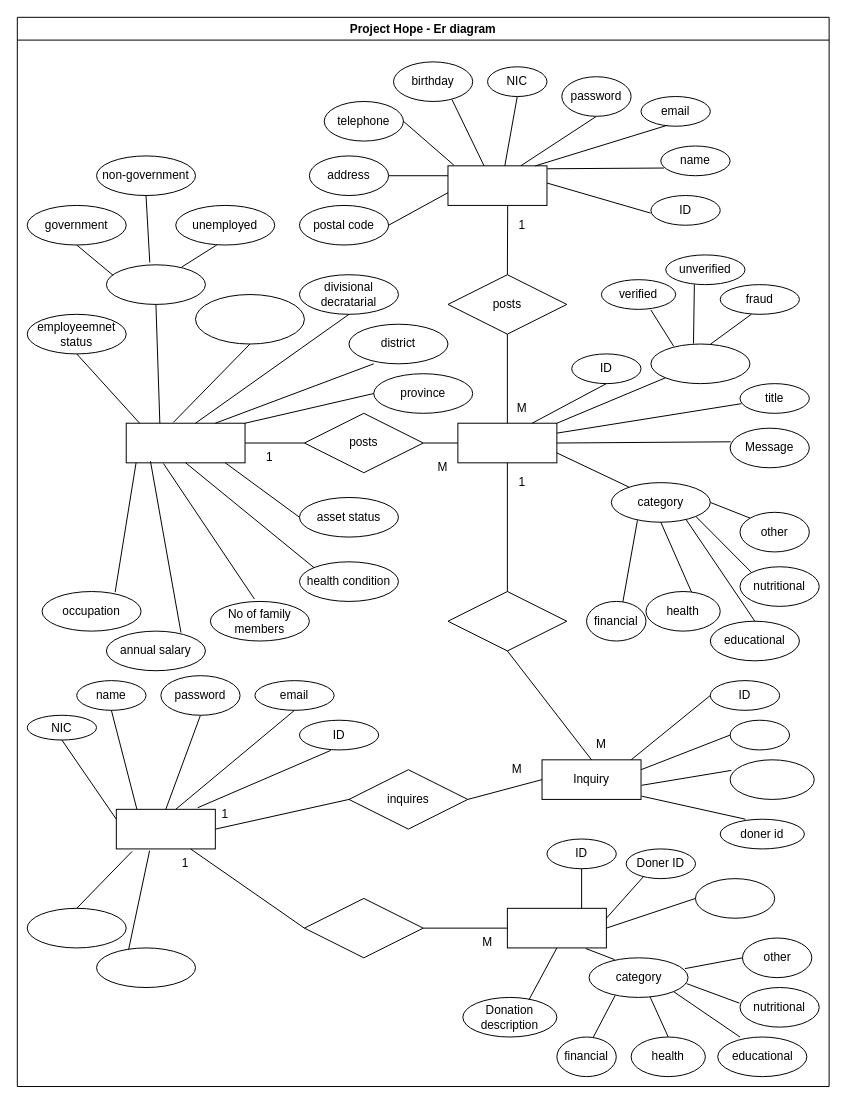
The diagram is 846 pixels wide and 1104 high, and some of its shapes have lost their labels. The shapes that lost their labels are listed below. From the top down, each one's centre as x and y in pixels, then its label:
At point 497,185: "Recepient".
At point 155,284: "employeemnet category".
At point 249,319: "grama niladhari division".
At point 700,363: "verification status".
At point 185,442: "Verified recepient".
At point 507,442: "Request".
At point 507,621: "has".
At point 759,734: "date".
At point 771,779: "request id".
At point 165,828: "Doner".
At point 734,898: "Receipient ID".
At point 76,927: "organization".
At point 363,927: "makes".
At point 556,927: "Donation".
At point 146,967: "occupastion".
